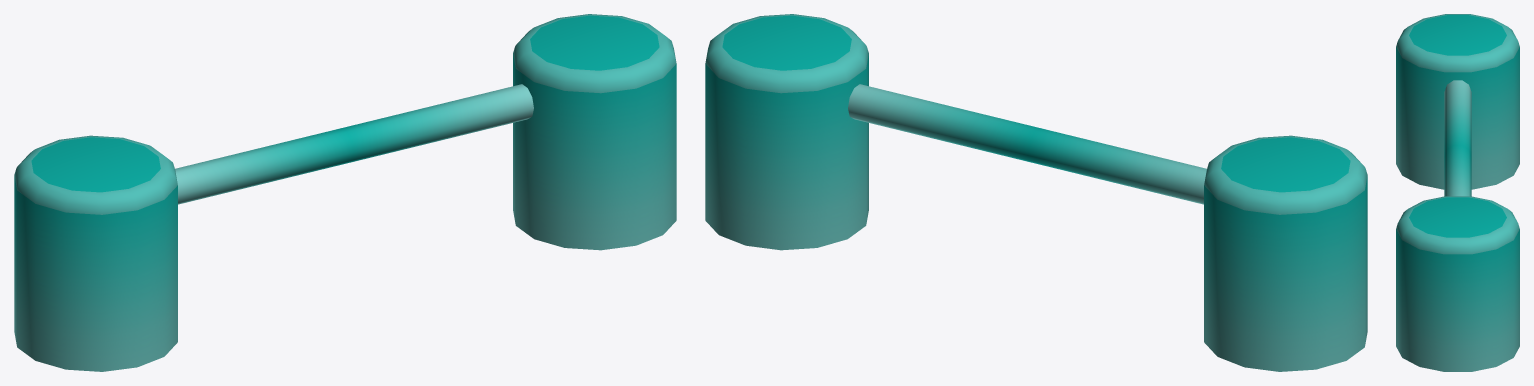
Rendered from obstacle-02.fbx.
3 renders of one model, left to right at view 1: azimuth 30°, elevation 25°; view 2: azimuth 150°, elevation 25°; view 3: azimuth 270°, elevation 25°, orthographic. The views are drawn at different scales.
Parts seen in each view (by area): view 1: obstacle-02; view 2: obstacle-02; view 3: obstacle-02.
Part boxes in pixels (x1,y1,x2,y2): obstacle-02: (14, 14, 676, 371); obstacle-02: (705, 14, 1367, 371); obstacle-02: (1396, 14, 1519, 371).
Size of the model in its own units: 0.9286 by 0.2395 by 0.2084.
1 material, 1 textured.
